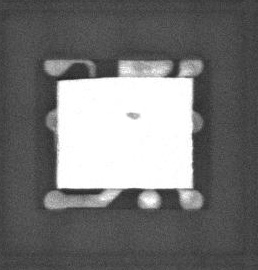DIE_INK: (119, 115, 135, 125)
